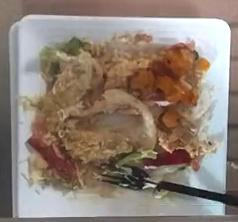carrots: (127, 42, 202, 103)
rice_mix: (27, 33, 214, 189)
